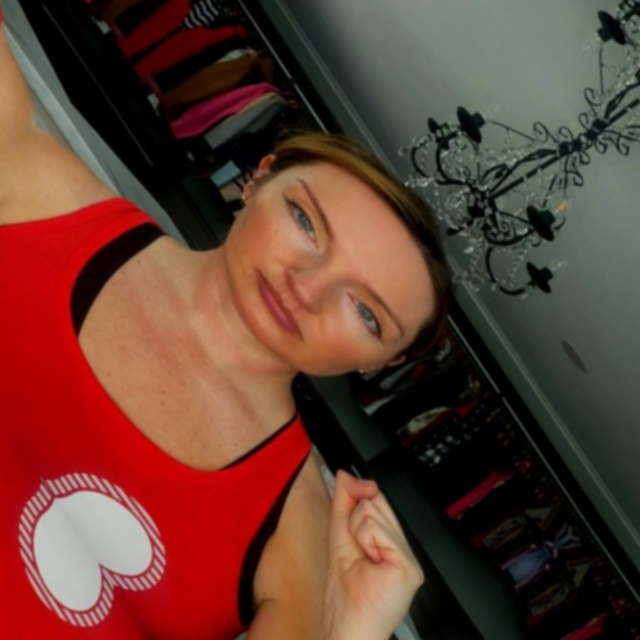Rock: (266, 455, 456, 640)
